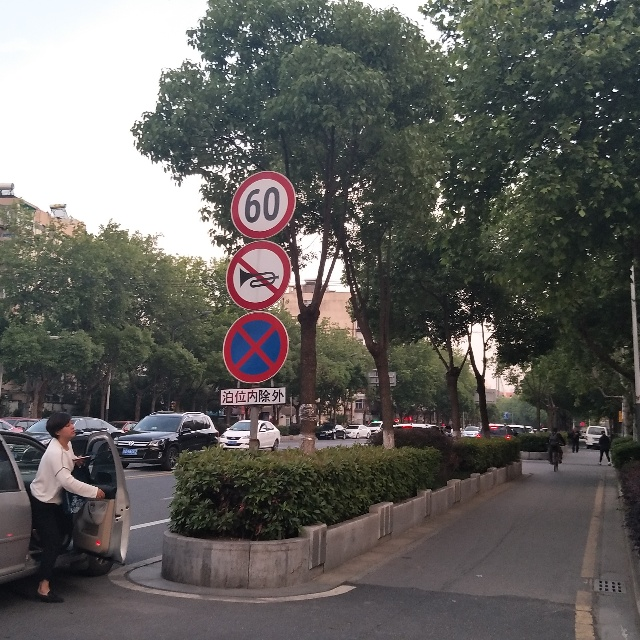nohonk: (231, 252, 284, 301)
stop: (227, 321, 284, 376)
